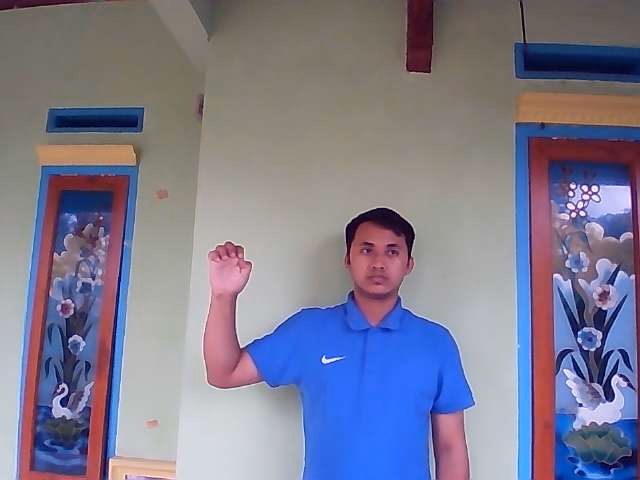E: (206, 240, 252, 296)
